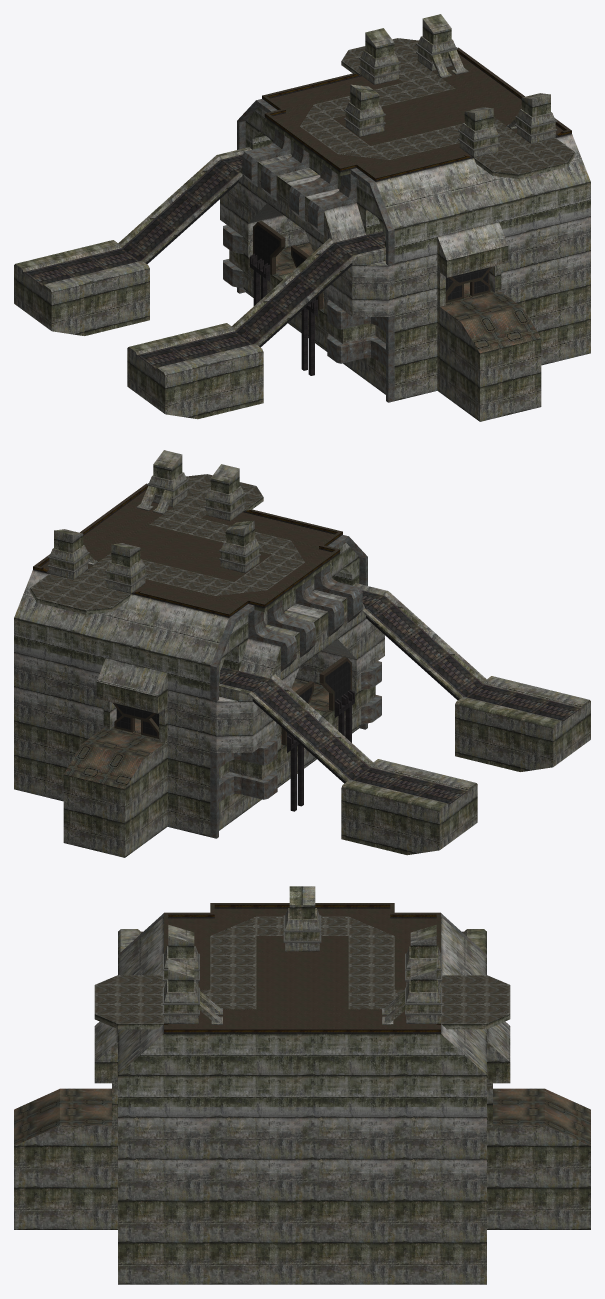
Rendered from Corebase3.fbx.
The picture shows the model from 3 angles, top to bottom: view 1: azimuth 30°, elevation 25°; view 2: azimuth 150°, elevation 25°; view 3: azimuth 270°, elevation 25°; orthographic projection. The views are drawn at different scales.
Parts seen in each view (by area): view 1: Object; view 2: Object; view 3: Object.
Boxes of the visible parts, x1,y1,x2,y2 form: Object: (14, 14, 590, 421); Object: (14, 450, 590, 857); Object: (14, 886, 590, 1284).
Size of the model in its own units: 20800 by 11600 by 20000.
